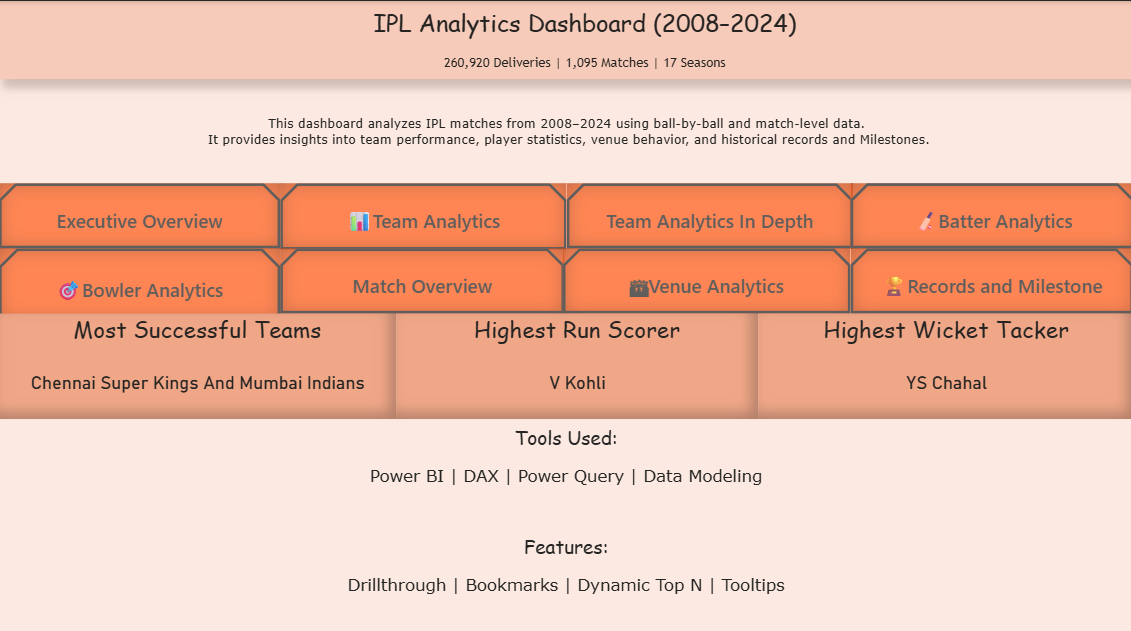

What the dashboard file says about the page in this screenshot:
{"tool":"powerbi","page":{"name":"Home/Landing Page","canvas":[1280,720],"ordinal":0},"visuals":[{"type":"textbox","box":[0,0,1280.2,88.4],"z":0},{"type":"textbox","box":[0,88,1279.6,117.4],"z":1000},{"type":"actionButton","box":[0,205.4,317,73.4],"z":2000},{"type":"actionButton","box":[317,205.4,322.8,74.8],"z":3000},{"type":"actionButton","box":[639.8,205.4,322.8,73.4],"z":4000},{"type":"actionButton","box":[959.7,205.4,319.9,73.4],"z":5000},{"type":"actionButton","box":[0,278.8,317,80.7],"z":6000},{"type":"actionButton","box":[317,278.8,319.9,73.4],"z":7000},{"type":"actionButton","box":[635.4,278.8,324.3,73.4],"z":8000},{"type":"actionButton","box":[959.7,278.8,318.4,73.4],"z":9000},{"type":"card","title":"Most Successful Teams","fields":{"Values":["matches.Most Succesful Team"]},"box":[0,351.6,447.6,118.9],"z":10000},{"type":"card","title":"Highest Run Scorer","fields":{"Values":["deliveries.Highest Run Scorer"]},"box":[447.6,351.6,407.9,118.9],"z":11000},{"type":"card","title":"Highest Wicket Tacker","fields":{"Values":["deliveries.Highest Wicket Taker"]},"box":[855.5,351.6,424.1,118.9],"z":12000},{"type":"textbox","box":[0,471,1278.1,249.5],"z":13000}]}

Visuals, with their boxes in screenshot pixels (x1, y1, x2, y2), scaled from the page's 1280x720 canvas onto the 1131x631 screenshot:
textbox: {"left": 0, "top": 0, "right": 1130, "bottom": 77}
textbox: {"left": 0, "top": 77, "right": 1130, "bottom": 180}
actionButton: {"left": 0, "top": 180, "right": 280, "bottom": 244}
actionButton: {"left": 280, "top": 180, "right": 565, "bottom": 246}
actionButton: {"left": 565, "top": 180, "right": 851, "bottom": 244}
actionButton: {"left": 848, "top": 180, "right": 1130, "bottom": 244}
actionButton: {"left": 0, "top": 244, "right": 280, "bottom": 315}
actionButton: {"left": 280, "top": 244, "right": 563, "bottom": 309}
actionButton: {"left": 561, "top": 244, "right": 848, "bottom": 309}
actionButton: {"left": 848, "top": 244, "right": 1129, "bottom": 309}
"Most Successful Teams" card: {"left": 0, "top": 308, "right": 395, "bottom": 412}
"Highest Run Scorer" card: {"left": 395, "top": 308, "right": 756, "bottom": 412}
"Highest Wicket Tacker" card: {"left": 756, "top": 308, "right": 1130, "bottom": 412}
textbox: {"left": 0, "top": 413, "right": 1129, "bottom": 630}
